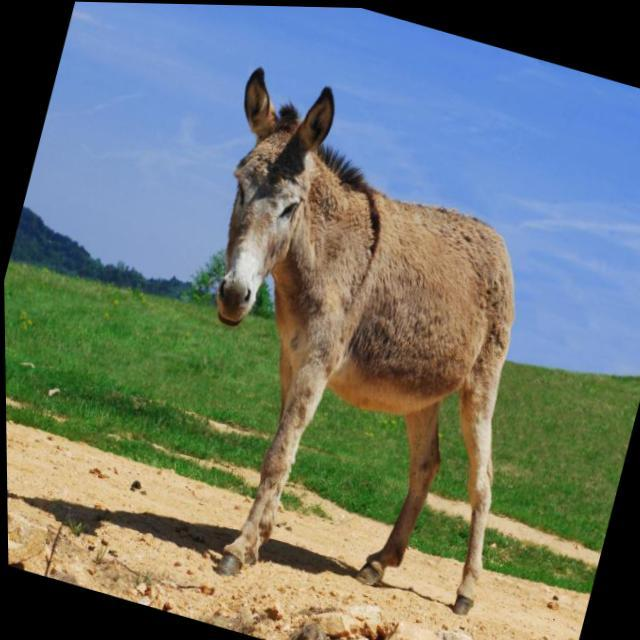Donkey: (100, 52, 602, 640)
